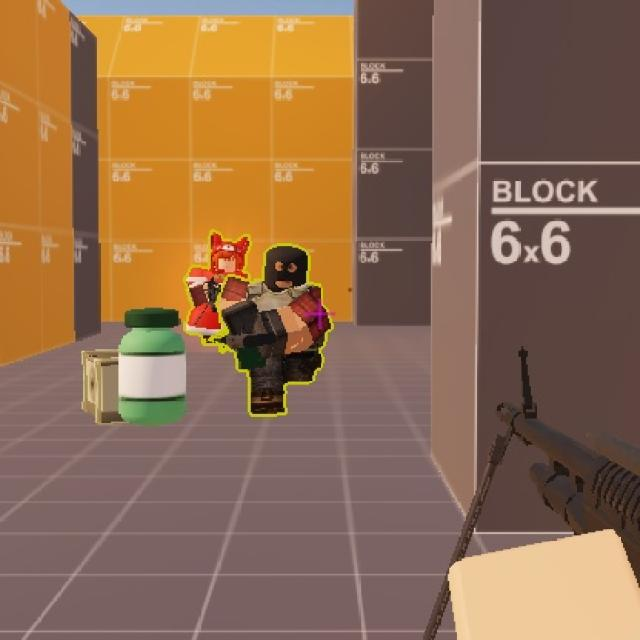player: (220, 238, 333, 428), (186, 232, 253, 282)
